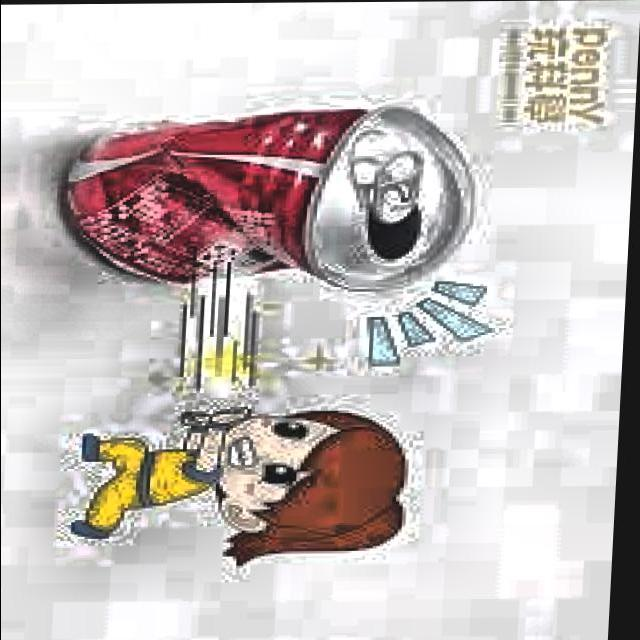Aluminum Can: (47, 98, 488, 297)
